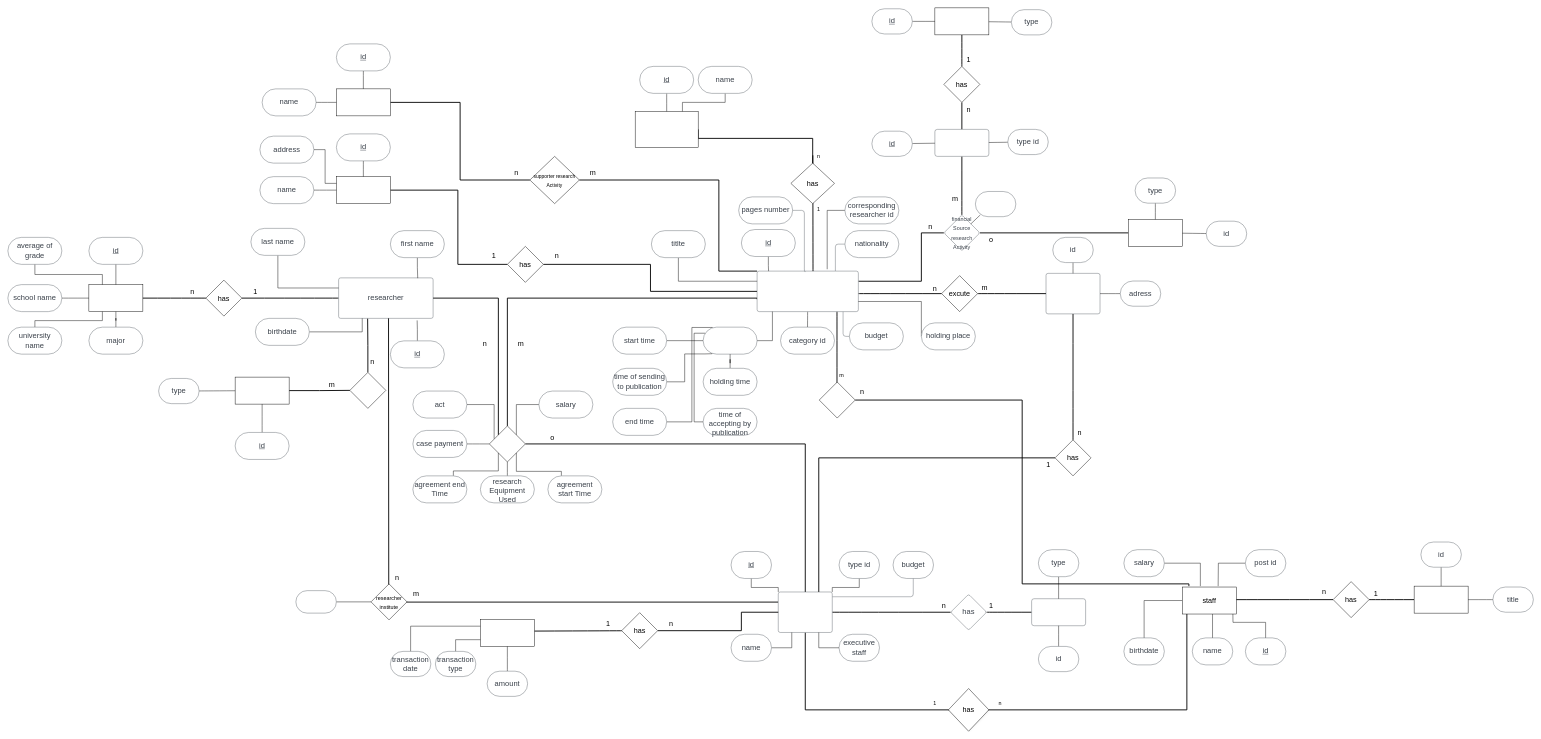
This 1541x739 diagram has some shape labels left out. Each missing label, with the centre of its shape:
"academic Records Of A Researcher" goes at pixel 115 298.
"agrement" goes at pixel 507 443.
"attend" goes at pixel 837 400.
"current researcher" goes at pixel 315 601.
"department of institute" goes at pixel 1073 293.
"financial Budget" goes at pixel 995 204.
"financial Budget Type" goes at pixel 1155 232.
"financial Source" goes at pixel 961 142.
"financial Source Type" goes at pixel 961 21.
"institude" goes at pixel 805 612.
"institute financial Records" goes at pixel 507 632.
"institute Type" goes at pixel 1058 612.
"post" goes at pixel 1441 599.
"puplication" goes at pixel 363 190.
"Research Activity" goes at pixel 807 291.
"research Activity field" goes at pixel 666 129.
"research Areas Of Interest" goes at pixel 262 390.
"research Areas Of Interest researcher" goes at pixel 367 390.
"supporter" goes at pixel 363 102.
"time" goes at pixel 730 340.
